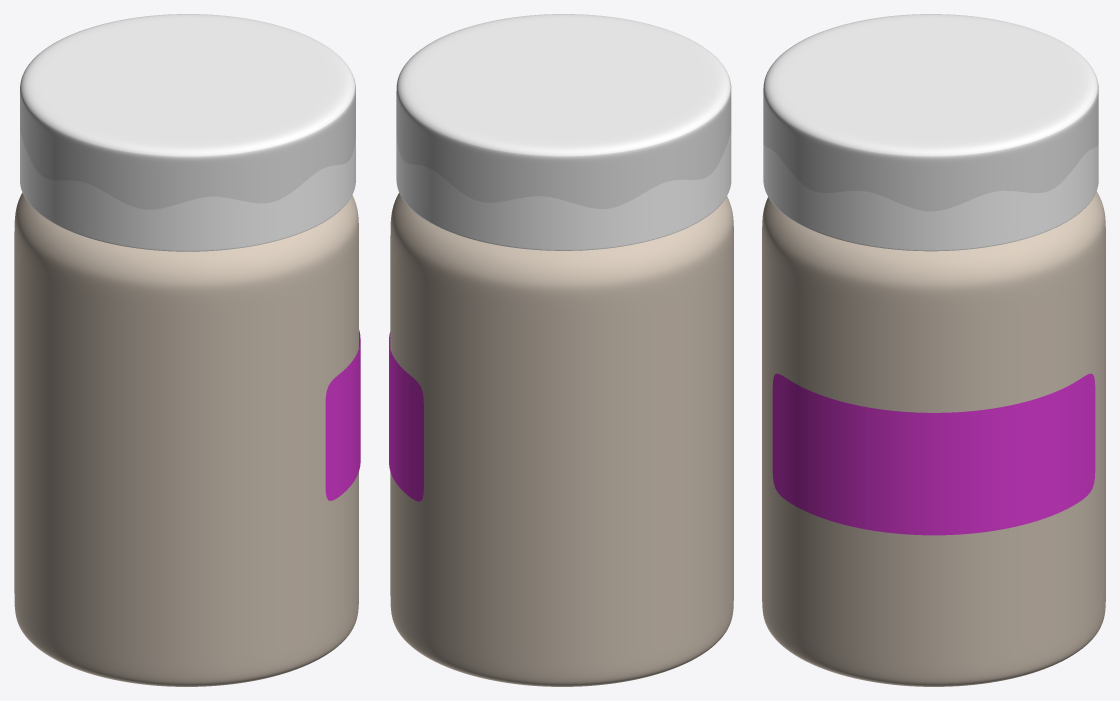
Rendered from really_animated5_container.fbx.
3 renders of one model, left to right at view 1: azimuth 30°, elevation 25°; view 2: azimuth 150°, elevation 25°; view 3: azimuth 270°, elevation 25°, orthographic.
Parts seen in each view (by area): view 1: Vial - Scintillation - 20 mL, Vial - Scintillation - 20 mL.001, Vial - Scintillation - 20 mL.002; view 2: Vial - Scintillation - 20 mL, Vial - Scintillation - 20 mL.001, Vial - Scintillation - 20 mL.002; view 3: Vial - Scintillation - 20 mL, Vial - Scintillation - 20 mL.001, Vial - Scintillation - 20 mL.002.
Boxes of the visible parts, bbox=[...] form: Vial - Scintillation - 20 mL: bbox=[14, 193, 358, 686]; Vial - Scintillation - 20 mL.001: bbox=[20, 14, 355, 251]; Vial - Scintillation - 20 mL.002: bbox=[325, 330, 360, 500]; Vial - Scintillation - 20 mL: bbox=[390, 193, 733, 686]; Vial - Scintillation - 20 mL.001: bbox=[396, 14, 731, 250]; Vial - Scintillation - 20 mL.002: bbox=[389, 332, 423, 501]; Vial - Scintillation - 20 mL: bbox=[762, 191, 1105, 686]; Vial - Scintillation - 20 mL.001: bbox=[763, 14, 1098, 251]; Vial - Scintillation - 20 mL.002: bbox=[772, 373, 1095, 535].
Size of the model in its own units: 155 by 266 by 154.
